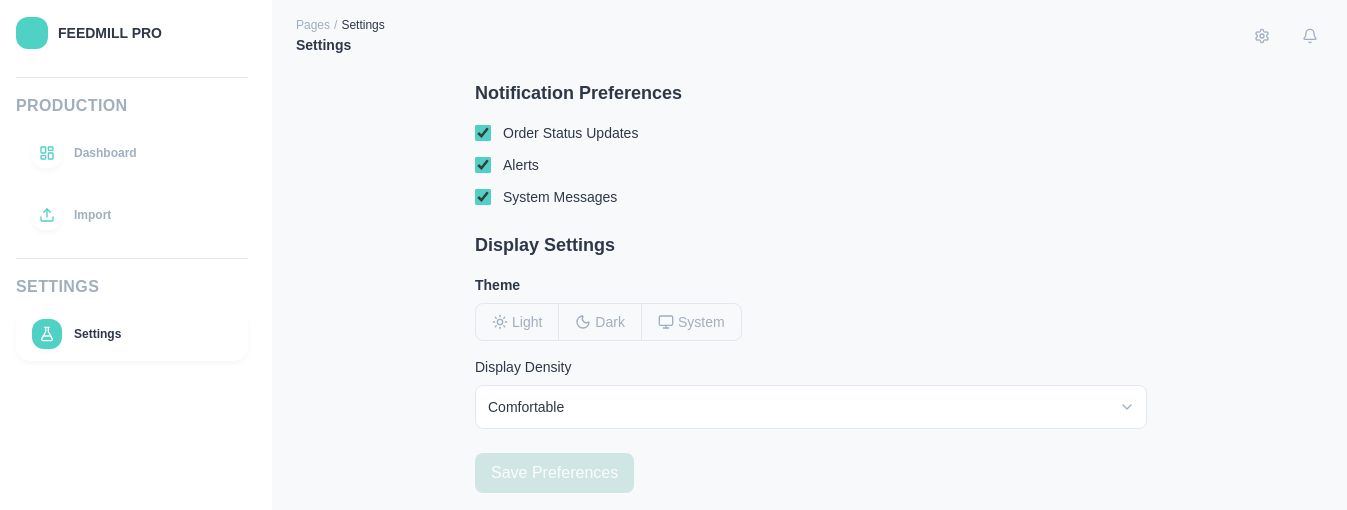
Scenario: SettingsPage - MIG-04 Design System Migration › Form state management › Save button enables when notification setting is changed
Expected: the button "Save Preferences" is disabled, [475,453,634,493]
What coordinates should you click on to do the following:
click the checkbox labelled "Order Status Updates"
I would click on:
 (483, 133)
Its box is [475,125,491,141].
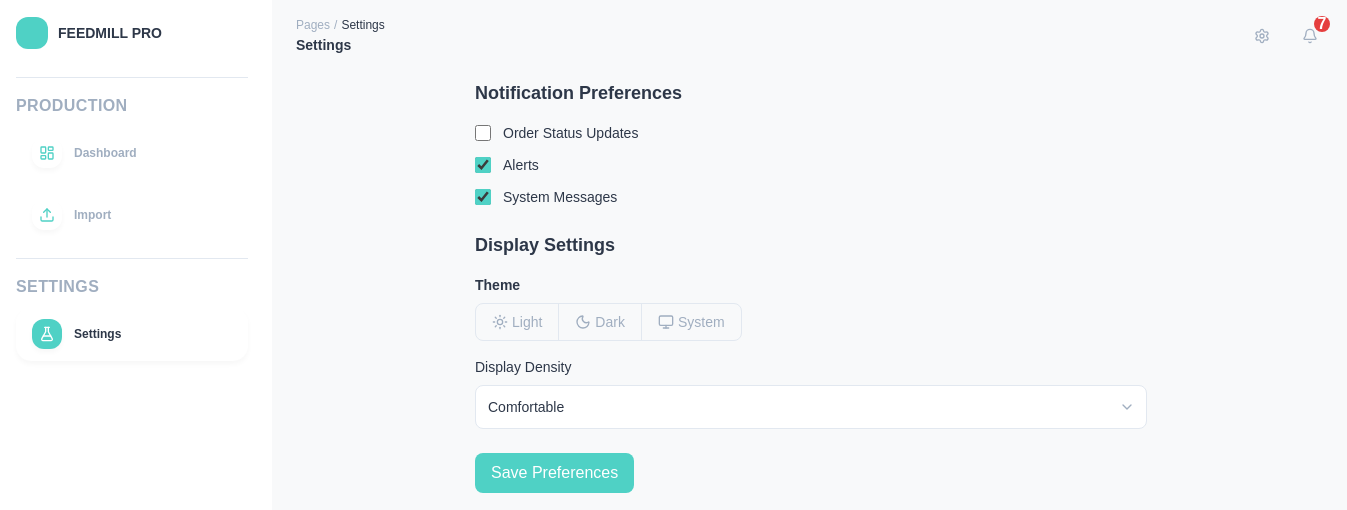
Expected: the button "Save Preferences" is enabled, [475,453,634,493]
